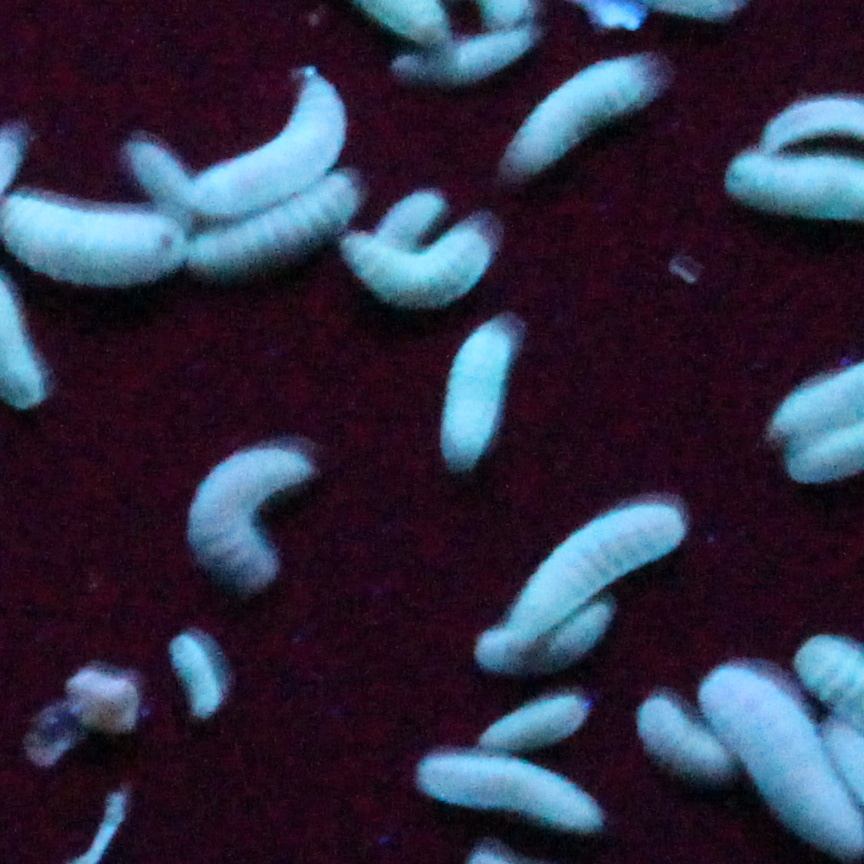larve: (476, 505, 683, 666), (190, 77, 346, 215), (188, 449, 310, 589), (187, 172, 358, 268), (509, 57, 645, 167), (419, 757, 602, 832), (344, 226, 490, 309), (441, 325, 508, 459), (638, 698, 728, 777), (480, 697, 585, 751), (130, 144, 192, 233), (434, 28, 531, 77), (171, 635, 223, 716), (374, 192, 441, 253)
